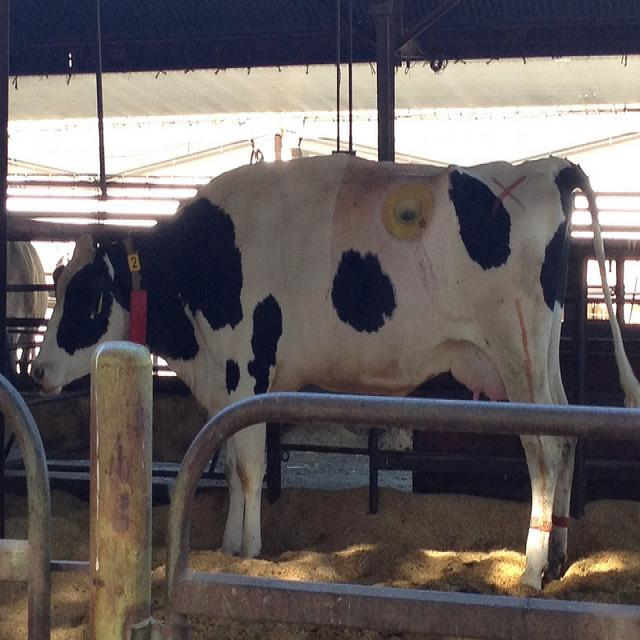cow: (27, 156, 639, 593)
